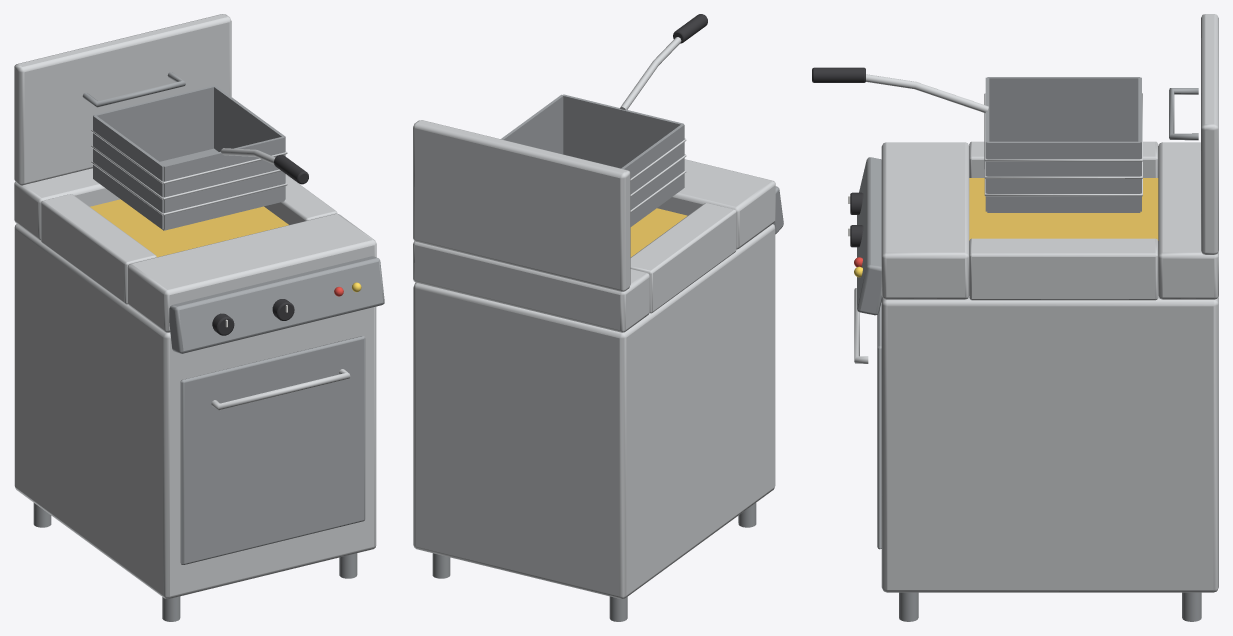
The model's file is Fryer.fbx.
The picture shows the model from 3 angles, left to right: view 1: azimuth 30°, elevation 25°; view 2: azimuth 150°, elevation 25°; view 3: azimuth 270°, elevation 25°; orthographic projection. The views are drawn at different scales.
Visible parts, largest first — view 1: Fryer, Basket; view 2: Fryer, Basket; view 3: Fryer, Basket.
Part boxes in pixels (x1,y1,x2,y2): Fryer: (14,14,384,621); Basket: (91,85,308,230); Fryer: (413,120,783,621); Basket: (501,14,707,226); Fryer: (848,14,1218,621); Basket: (812,67,1142,212).
Size of the model in its own units: 0.6 by 1.23 by 0.905.
